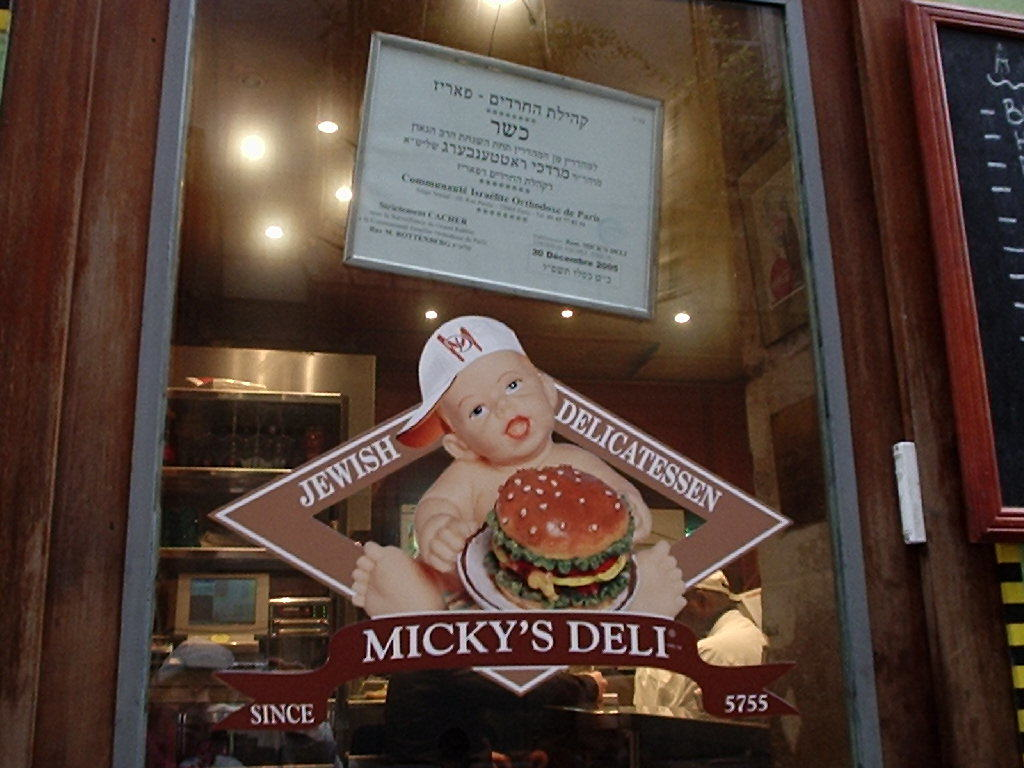Hamburger: (487, 464, 634, 612)
